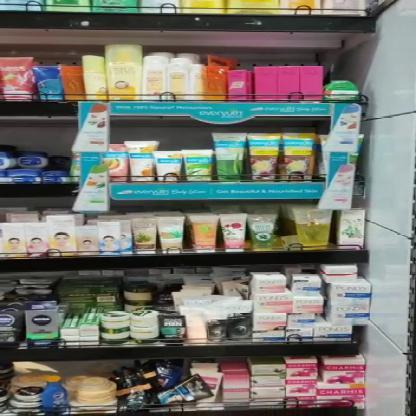EY NAT GLOW ORANGE PEEL OFF AY 90G: (126, 142, 155, 182), (157, 152, 180, 180)
EY RJ CUCUMBER ALOEVERA FACEPAK50G: (183, 151, 214, 182)
